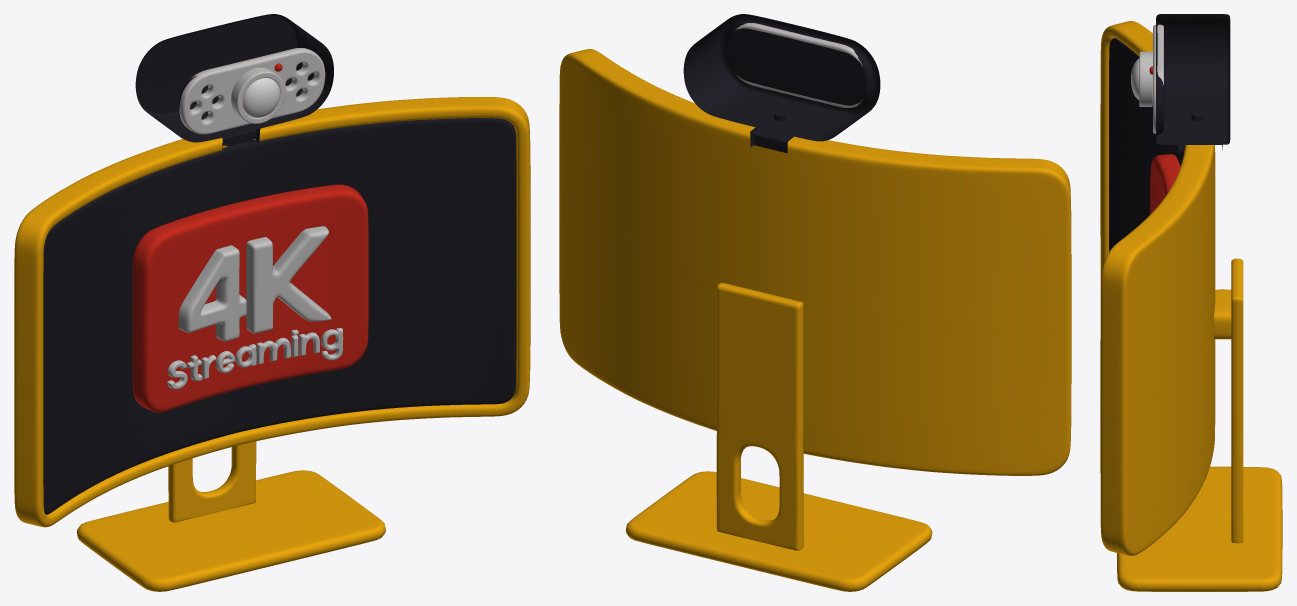
The model's file is streaming-setup-animated-3d-icon-789971005824.glb.
The picture shows the model from 3 angles, left to right: view 1: azimuth 30°, elevation 25°; view 2: azimuth 150°, elevation 25°; view 3: azimuth 270°, elevation 25°; orthographic projection.
Parts seen in each view (by area): view 1: Screen.003, 4K, Monitor, Stand, Webcam Body, Detail, Lens Hood, Lens Glass; view 2: Monitor, Stand, Webcam Body, Detail, Holder.001; view 3: Monitor, Stand, Webcam Body, Screen.003, 4K, Lens Hood, Detail, Lens Glass.
Boxes of the visible parts, bbox=[...] form: Screen.003: bbox=[43, 118, 516, 514]; 4K: bbox=[132, 184, 368, 412]; Monitor: bbox=[14, 97, 530, 527]; Stand: bbox=[76, 441, 385, 591]; Webcam Body: bbox=[135, 14, 333, 142]; Detail: bbox=[179, 48, 325, 134]; Lens Hood: bbox=[231, 67, 285, 123]; Lens Glass: bbox=[243, 78, 280, 118]; Monitor: bbox=[559, 49, 1071, 475]; Stand: bbox=[625, 282, 932, 591]; Webcam Body: bbox=[683, 14, 880, 141]; Detail: bbox=[735, 23, 862, 107]; Holder.001: bbox=[750, 111, 793, 153]; Monitor: bbox=[1100, 21, 1215, 555]; Stand: bbox=[1117, 258, 1282, 591]; Webcam Body: bbox=[1156, 14, 1230, 144]; Screen.003: bbox=[1109, 38, 1184, 251]; 4K: bbox=[1150, 154, 1180, 213]; Lens Hood: bbox=[1139, 51, 1152, 106]; Detail: bbox=[1153, 24, 1163, 133]; Lens Glass: bbox=[1131, 58, 1139, 99].
Bounding box in the file's own units: 2.83 × 2.63 × 0.8763.
